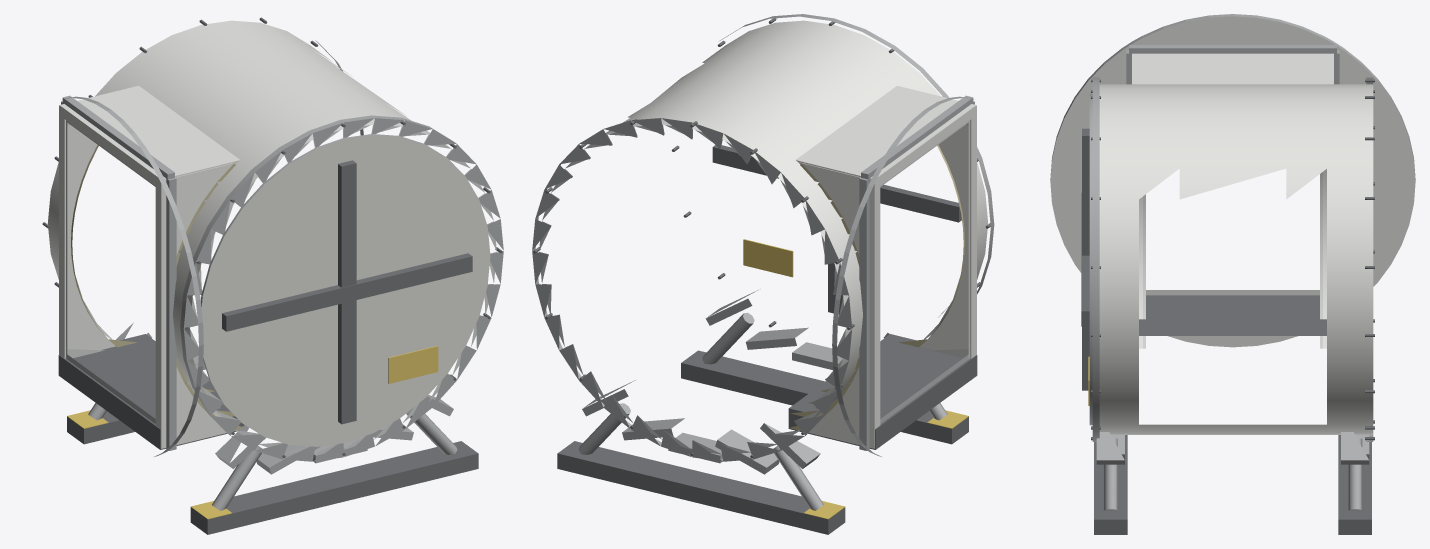
File: habWindowJLf_steel.glb
3 views of the same model, side by side, from view 1: azimuth 30°, elevation 25°; view 2: azimuth 150°, elevation 25°; view 3: azimuth 270°, elevation 25° (orthographic).
Visible parts, largest first — view 1: habWindowJLf_steel; view 2: habWindowJLf_steel; view 3: habWindowJLf_steel.
Part boxes in pixels (box(x1,y1,x2,y2)): habWindowJLf_steel: box(42, 17, 503, 534); habWindowJLf_steel: box(532, 14, 994, 534); habWindowJLf_steel: box(1050, 14, 1415, 534).
Bounding box in the file's own units: 2.65 × 2.95 × 2.6.
